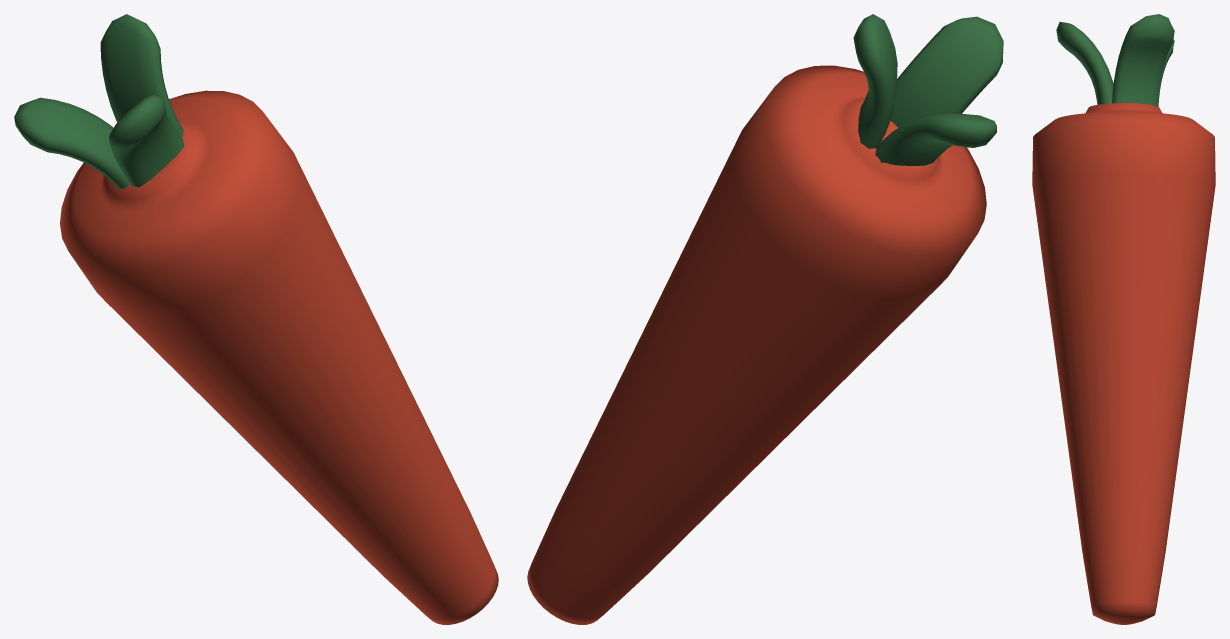
Rendered from Zanahoria coloreada.fbx.
The picture shows the model from 3 angles, left to right: view 1: azimuth 30°, elevation 25°; view 2: azimuth 150°, elevation 25°; view 3: azimuth 270°, elevation 25°; orthographic projection. The views are drawn at different scales.
Parts seen in each view (by area): view 1: Zanahoria; view 2: Zanahoria; view 3: Zanahoria.
Part boxes in pixels (x1,y1,x2,y2): Zanahoria: (14,14,498,624); Zanahoria: (527,14,1003,624); Zanahoria: (1032,14,1215,624).
Size of the model in its own units: 82.08 by 113 by 37.69.
